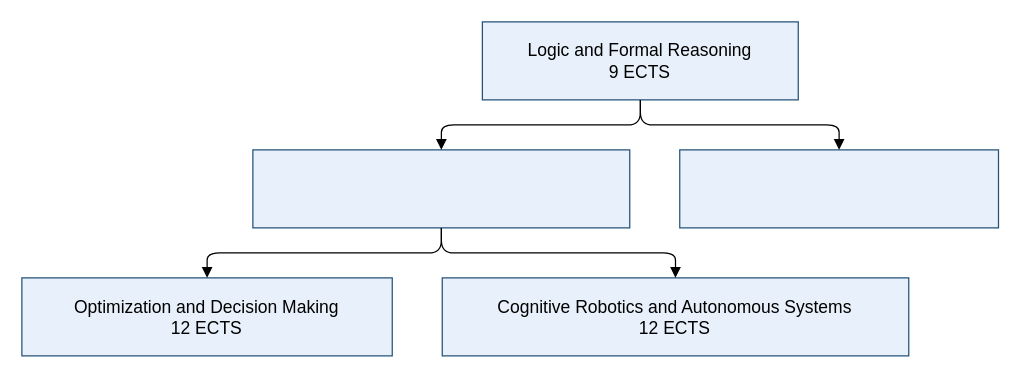
The diagram is 1021 pixels wide and 379 high, and some of its shapes have lost their labels. Here are the shapes that lost their labels. From the top down, the box of each, then its label:
(252, 149, 630, 228): Artificial Intelligence Foundations 12 ECTS
(678, 149, 998, 228): Software Model Verification 3 ECTS
